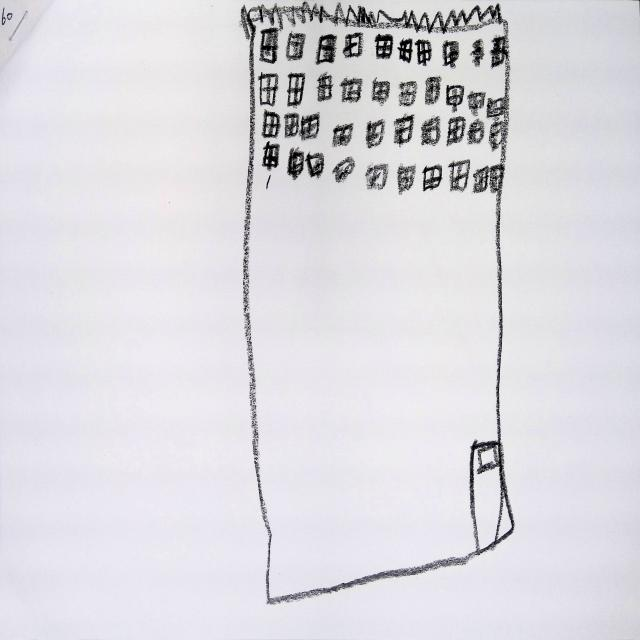door: (471, 441, 515, 555)
house: (243, 1, 515, 602)
roof: (234, 4, 518, 32)
wall: (254, 26, 517, 582)
window: (260, 28, 278, 63), (451, 160, 471, 191), (334, 156, 356, 183), (286, 32, 306, 60), (317, 34, 337, 62), (260, 74, 278, 105), (422, 116, 441, 145), (395, 116, 415, 143), (288, 148, 305, 179), (288, 74, 305, 105), (492, 36, 509, 67), (368, 164, 389, 189), (342, 77, 363, 102), (343, 32, 363, 57), (263, 141, 280, 170), (490, 121, 507, 150), (448, 117, 466, 144), (399, 168, 417, 194), (367, 120, 385, 146), (373, 78, 391, 104), (333, 124, 354, 146), (424, 166, 443, 190), (447, 86, 465, 111), (426, 76, 442, 104), (416, 39, 433, 65), (263, 110, 279, 137), (302, 114, 320, 138), (307, 154, 325, 177), (469, 92, 487, 115), (400, 82, 418, 105), (377, 34, 394, 58), (491, 164, 505, 193), (445, 41, 460, 67), (469, 119, 485, 143), (318, 74, 332, 101), (475, 168, 490, 192), (488, 97, 506, 117), (473, 39, 485, 66), (285, 114, 299, 136), (400, 39, 413, 62)
